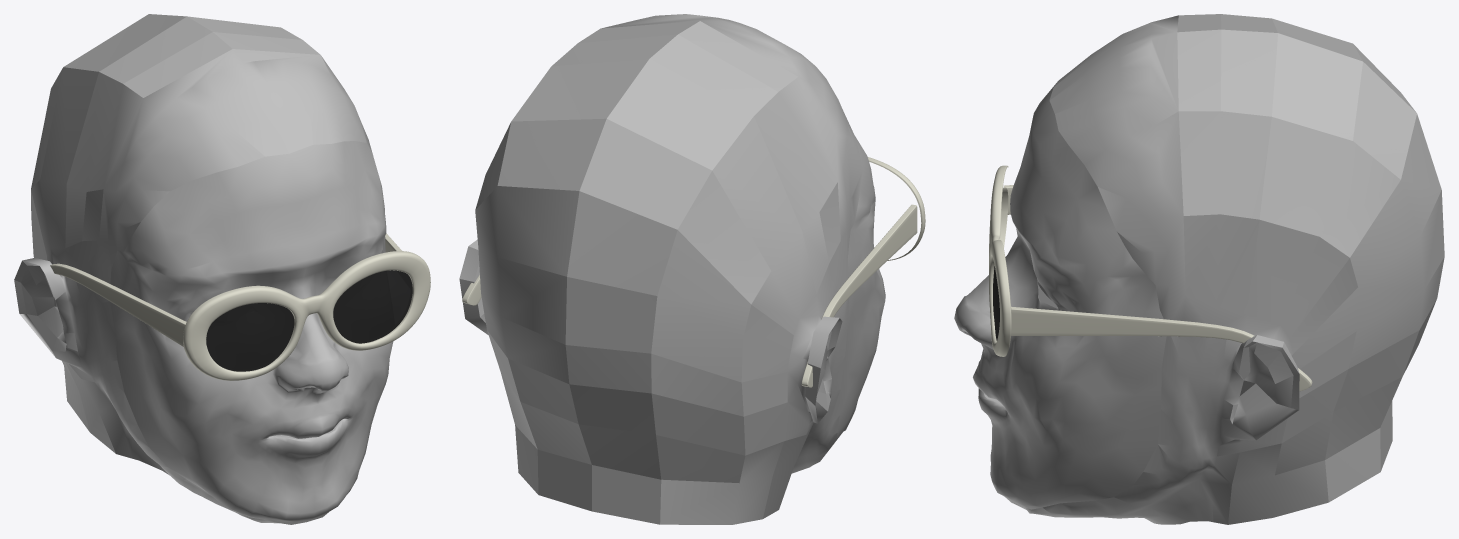
File: glasses3.glb
3 renders of one model, left to right at view 1: azimuth 30°, elevation 25°; view 2: azimuth 150°, elevation 25°; view 3: azimuth 270°, elevation 25°, orthographic. The views are drawn at different scales.
Parts seen in each view (by area): view 1: Occluder, frames, lenses; view 2: Occluder, frames; view 3: Occluder, frames.
Boxes of the visible parts, x1=… form: Occluder: x1=14, y1=14, x2=393, y2=524; frames: x1=50, y1=233, x2=430, y2=380; lenses: x1=206, y1=270, x2=412, y2=371; Occluder: x1=459, y1=14, x2=885, y2=524; frames: x1=462, y1=157, x2=925, y2=387; Occluder: x1=954, y1=14, x2=1444, y2=524; frames: x1=989, y1=165, x2=1312, y2=391.
Size of the model in its own units: 0.1841 by 0.2347 by 0.2177.
3 materials, 2 textured.
